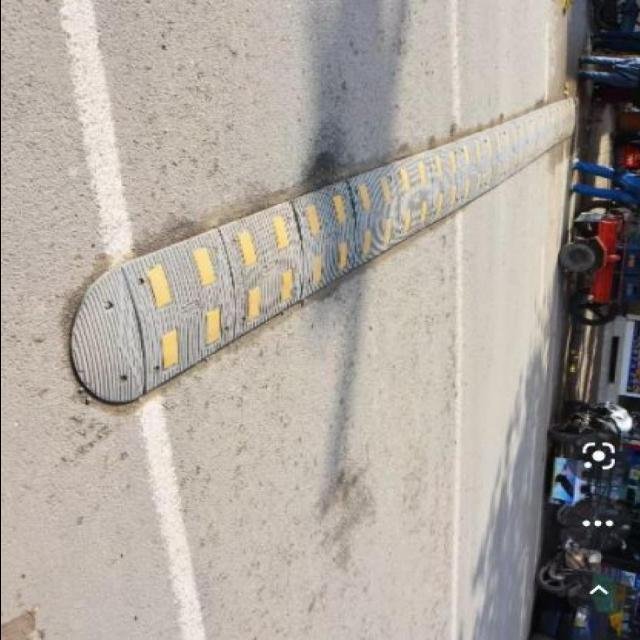speedbreaker: (58, 86, 588, 410)
